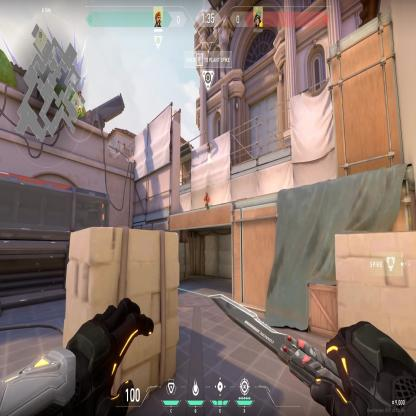enemy: (204, 191, 210, 207)
